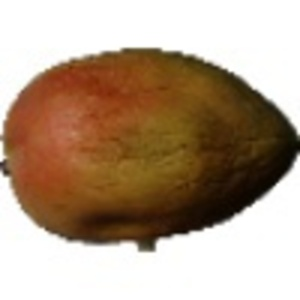mamão: (3, 42, 297, 245)
